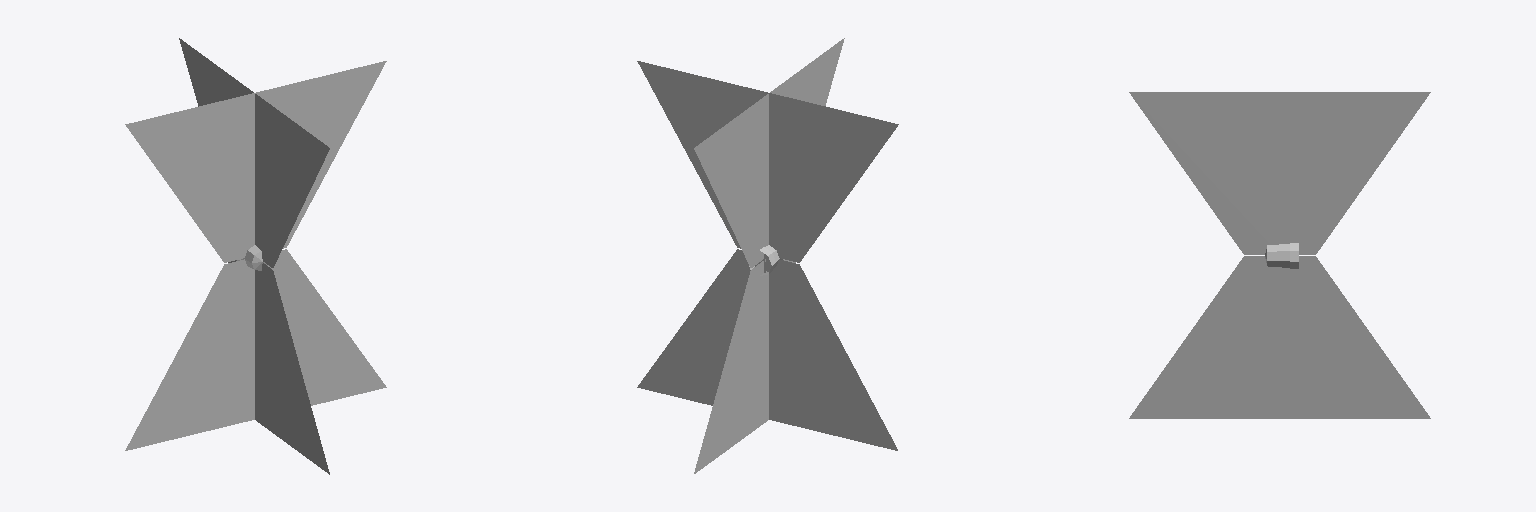
Rendered from stg400_MotRotlightA_n4_14.obj.
The picture shows the model from 3 angles: view 1: azimuth 30°, elevation 25°; view 2: azimuth 150°, elevation 25°; view 3: azimuth 270°, elevation 25°; orthographic projection.
Parts seen in each view (by area): view 1: polygon4; view 2: polygon4; view 3: polygon4, polygon1.
Part boxes in pixels (x1,y1,x2,y2): polygon4: (125, 38, 386, 474); polygon4: (637, 38, 898, 473); polygon4: (1129, 92, 1430, 418); polygon1: (1265, 244, 1289, 267).
Bounding box in the file's own units: 91.26 × 109 × 91.26.